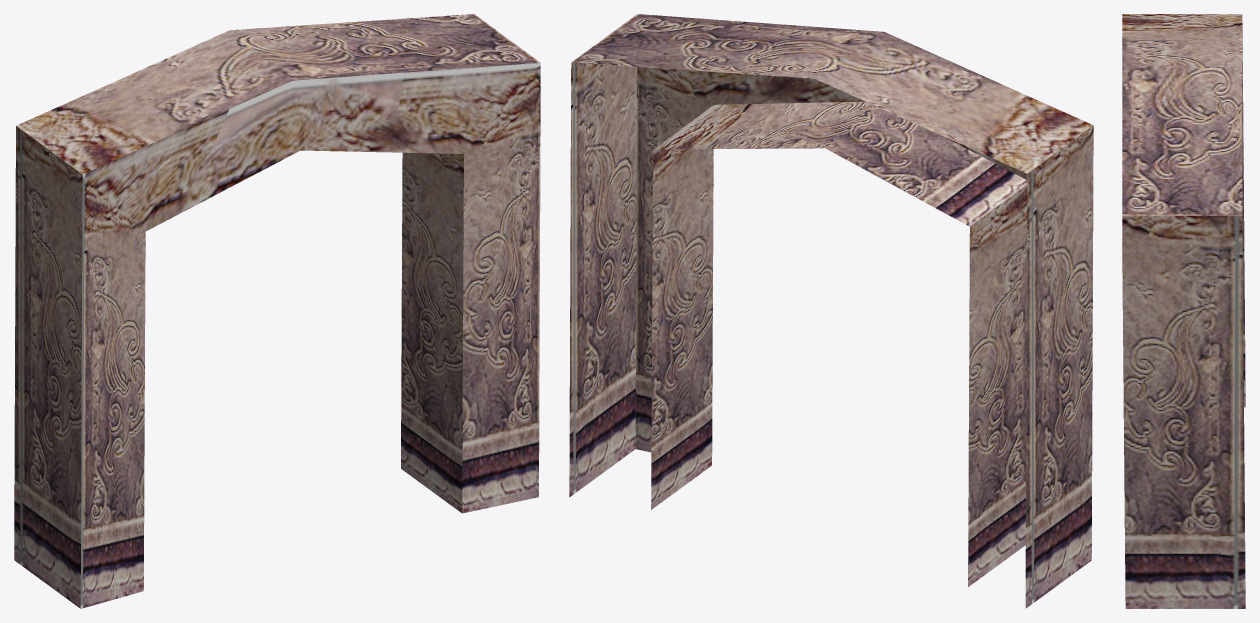
File: men05.obj
The picture shows the model from 3 angles, left to right: view 1: azimuth 30°, elevation 25°; view 2: azimuth 150°, elevation 25°; view 3: azimuth 270°, elevation 25°; orthographic projection. The views are drawn at different scales.
Parts seen in each view (by area): view 1: men05; view 2: men05; view 3: men05.
Part boxes in pixels (x1,y1,x2,y2): men05: [14, 14, 540, 608]; men05: [569, 14, 1093, 608]; men05: [1122, 14, 1245, 608].
Size of the model in its own units: 128 by 128 by 33.
